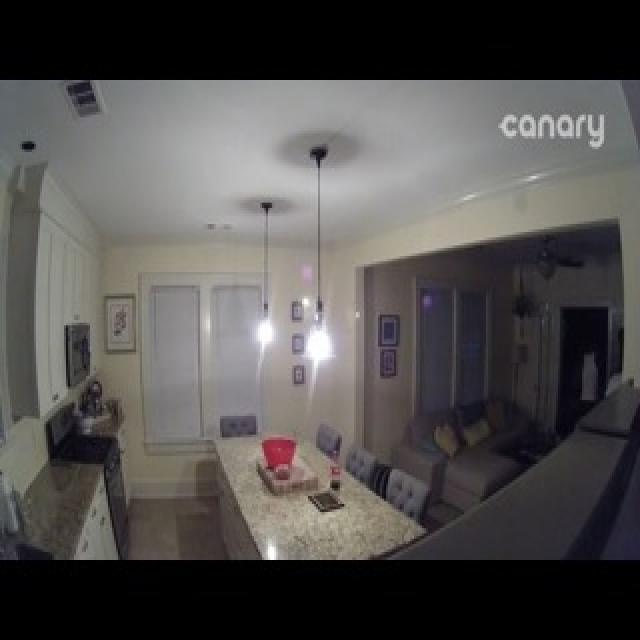thief: (574, 350, 608, 413)
